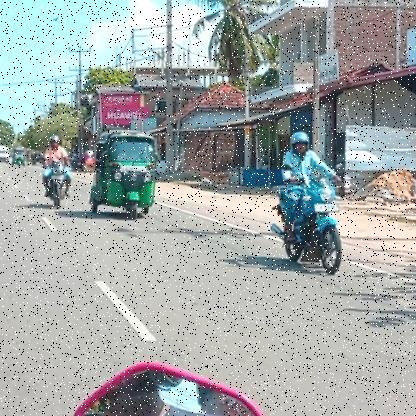motorcycle: (266, 176, 346, 278), (41, 158, 75, 212)
